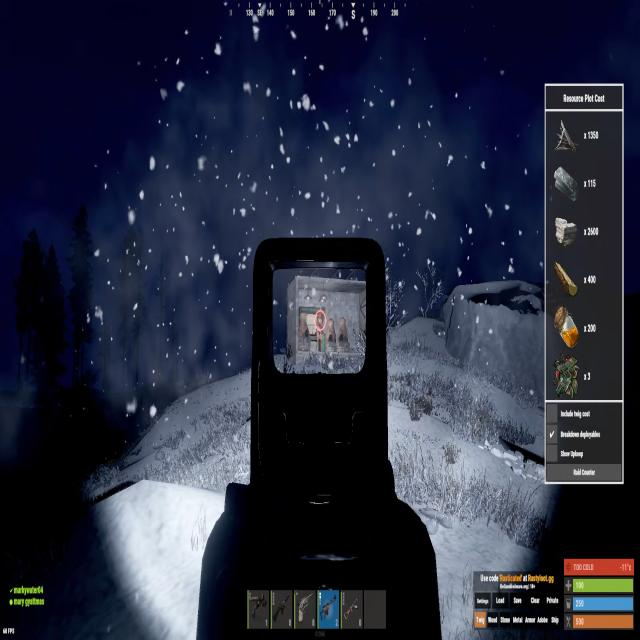Player: (316, 311, 323, 352)
